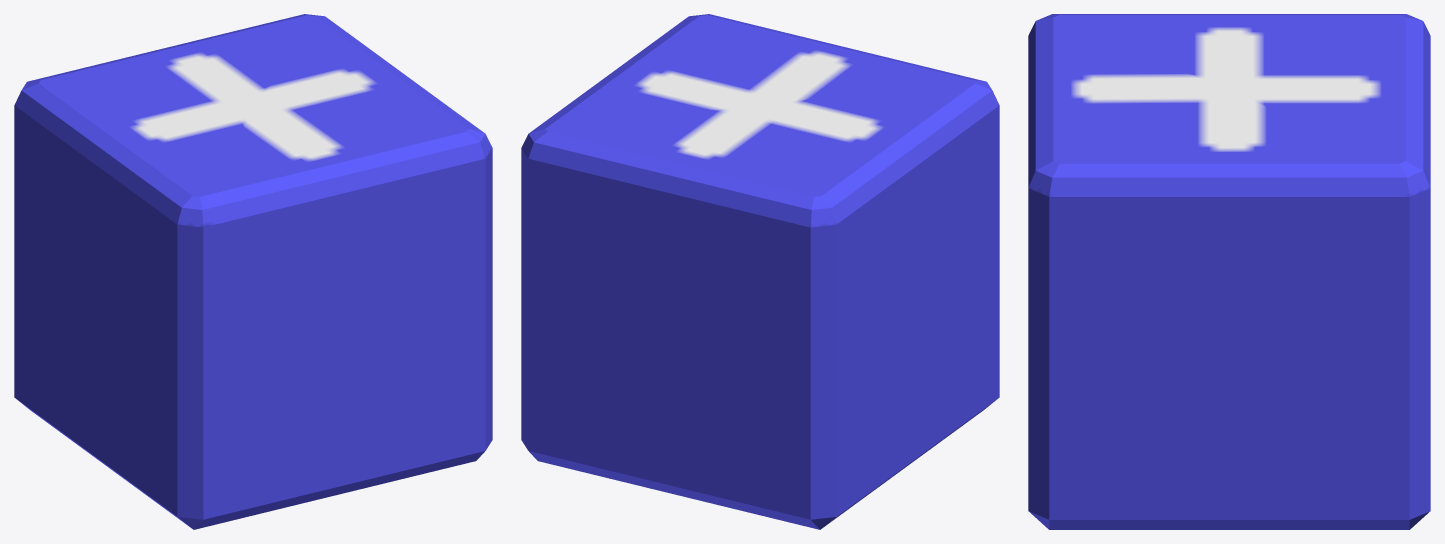
The model's file is ScienceProjectWall.fbx.
3 renders of one model, left to right at view 1: azimuth 30°, elevation 25°; view 2: azimuth 150°, elevation 25°; view 3: azimuth 270°, elevation 25°, orthographic. The views are drawn at different scales.
Parts seen in each view (by area): view 1: Cube; view 2: Cube; view 3: Cube.
Boxes of the visible parts, x1=… form: Cube: x1=14, y1=14, x2=492, y2=529; Cube: x1=521, y1=14, x2=999, y2=529; Cube: x1=1028, y1=14, x2=1430, y2=529.
Bounding box in the file's own units: 200 × 200 × 200.
